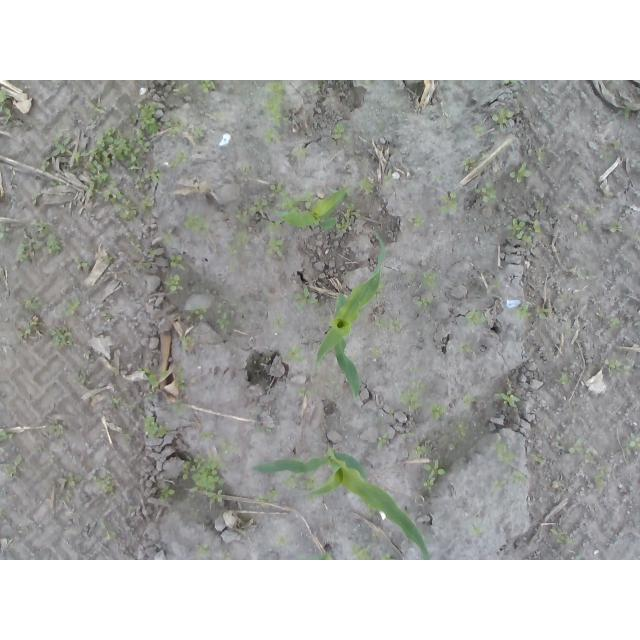Maize: (250, 440, 430, 560), (317, 230, 384, 398), (278, 188, 347, 236)
Weeds: (85, 99, 163, 222), (227, 183, 285, 258), (180, 455, 227, 506), (15, 219, 66, 262), (259, 80, 290, 145), (40, 133, 85, 171), (126, 234, 158, 272), (14, 295, 42, 338), (507, 215, 544, 245), (137, 366, 167, 402), (173, 359, 189, 418), (335, 201, 361, 235), (494, 382, 524, 410), (400, 380, 425, 413), (49, 323, 76, 353), (142, 413, 170, 439), (182, 211, 210, 237), (294, 286, 319, 315), (422, 460, 446, 489), (449, 420, 472, 449), (469, 181, 497, 204), (505, 160, 531, 184), (257, 484, 282, 508), (495, 437, 517, 464), (438, 190, 459, 218), (351, 173, 377, 195), (490, 105, 514, 128), (165, 112, 187, 137), (567, 435, 593, 456), (0, 88, 16, 122), (366, 318, 402, 333), (462, 307, 486, 329), (419, 270, 444, 291), (95, 466, 113, 495), (215, 301, 232, 331), (183, 305, 209, 324), (2, 456, 23, 479), (167, 151, 191, 170), (159, 275, 183, 294), (609, 359, 632, 378), (63, 296, 82, 319), (272, 534, 296, 552), (552, 525, 573, 545), (177, 335, 199, 354), (431, 402, 450, 423), (351, 544, 374, 561), (305, 477, 320, 503), (512, 303, 533, 321), (287, 343, 308, 361), (62, 471, 83, 489), (594, 467, 611, 489), (407, 213, 426, 232), (414, 295, 434, 313), (72, 255, 93, 272), (299, 552, 338, 561), (1, 219, 16, 242), (71, 367, 89, 386), (159, 482, 177, 501), (169, 253, 188, 271), (331, 121, 345, 145), (171, 81, 193, 96), (287, 472, 305, 489), (606, 220, 625, 236), (306, 80, 324, 96), (199, 81, 218, 96), (222, 441, 241, 456), (160, 229, 175, 248), (462, 391, 478, 408), (536, 304, 553, 320), (575, 221, 591, 238), (299, 386, 321, 398), (472, 123, 489, 138), (302, 190, 314, 210), (530, 451, 547, 465), (189, 505, 203, 522), (627, 431, 640, 448), (457, 340, 474, 353), (623, 103, 636, 120), (292, 146, 309, 159), (271, 319, 288, 332), (461, 158, 479, 170), (48, 422, 64, 435), (477, 143, 489, 160), (376, 432, 388, 449), (198, 542, 211, 557), (192, 126, 207, 139), (609, 138, 625, 150), (366, 503, 378, 519), (384, 168, 395, 185), (369, 346, 383, 359), (416, 445, 429, 459), (430, 175, 448, 185), (199, 432, 218, 441), (493, 480, 507, 492), (557, 371, 569, 385), (607, 316, 621, 328), (0, 429, 12, 442), (511, 470, 525, 481), (103, 529, 117, 540), (360, 80, 376, 89), (255, 426, 273, 434), (471, 526, 483, 538), (562, 324, 574, 336), (490, 279, 503, 290), (585, 206, 599, 216), (240, 161, 252, 172), (206, 111, 219, 121), (502, 81, 520, 88), (48, 179, 63, 187), (535, 148, 545, 160), (559, 292, 569, 304), (111, 398, 123, 408), (400, 431, 417, 438), (47, 454, 58, 464), (383, 553, 398, 560), (371, 530, 382, 538), (632, 319, 640, 330), (408, 367, 420, 374), (224, 552, 233, 561), (400, 538, 409, 546), (388, 408, 397, 416), (607, 155, 614, 161)
